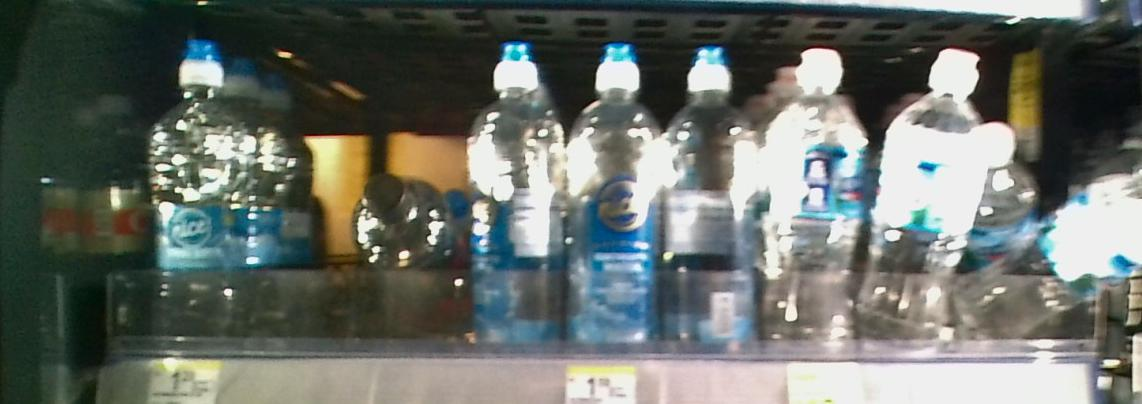bottle: (465, 32, 570, 358), (879, 47, 985, 364), (145, 32, 248, 351), (769, 47, 869, 359), (573, 34, 665, 357), (669, 40, 762, 355)
